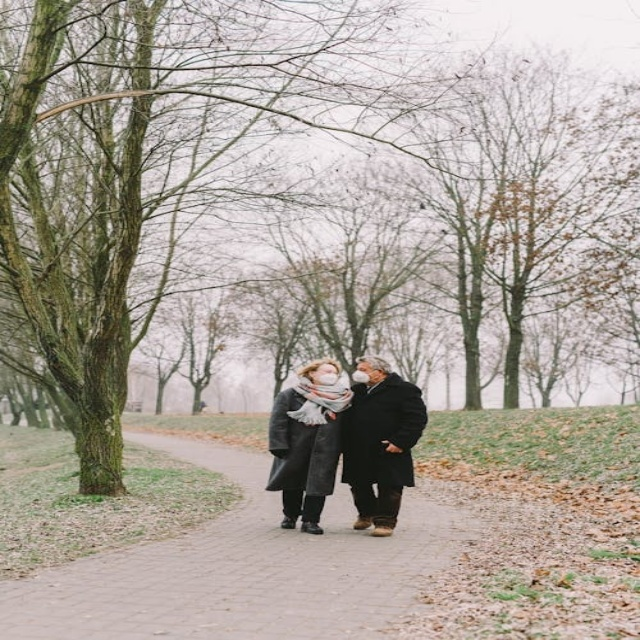Mascara: (317, 373, 339, 385), (352, 370, 372, 383)
Sin_guantes: (379, 438, 406, 455)
